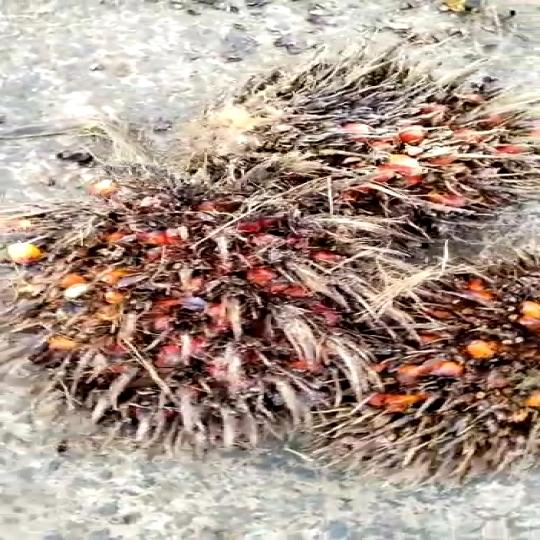terlalu masak: (0, 182, 408, 439), (186, 64, 540, 217)
